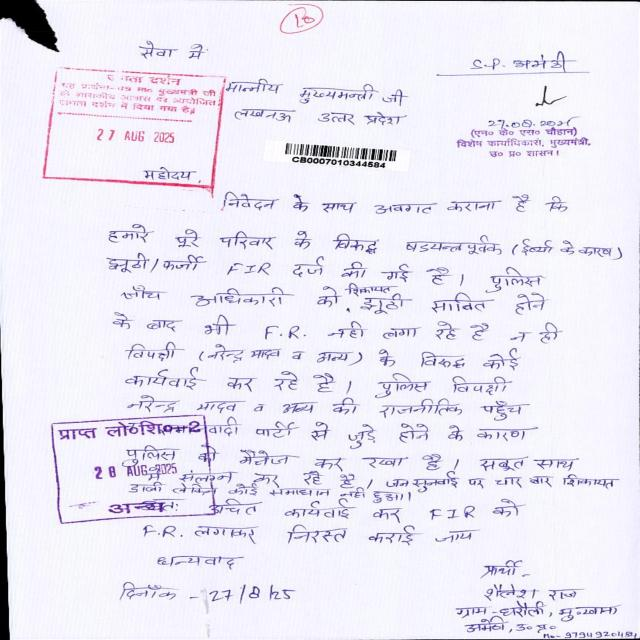antritgovtstamp: (52, 412, 227, 522)
barcode: (284, 126, 404, 178)
jantadarsan: (31, 56, 237, 194)
signnamestamp: (460, 77, 600, 168)
